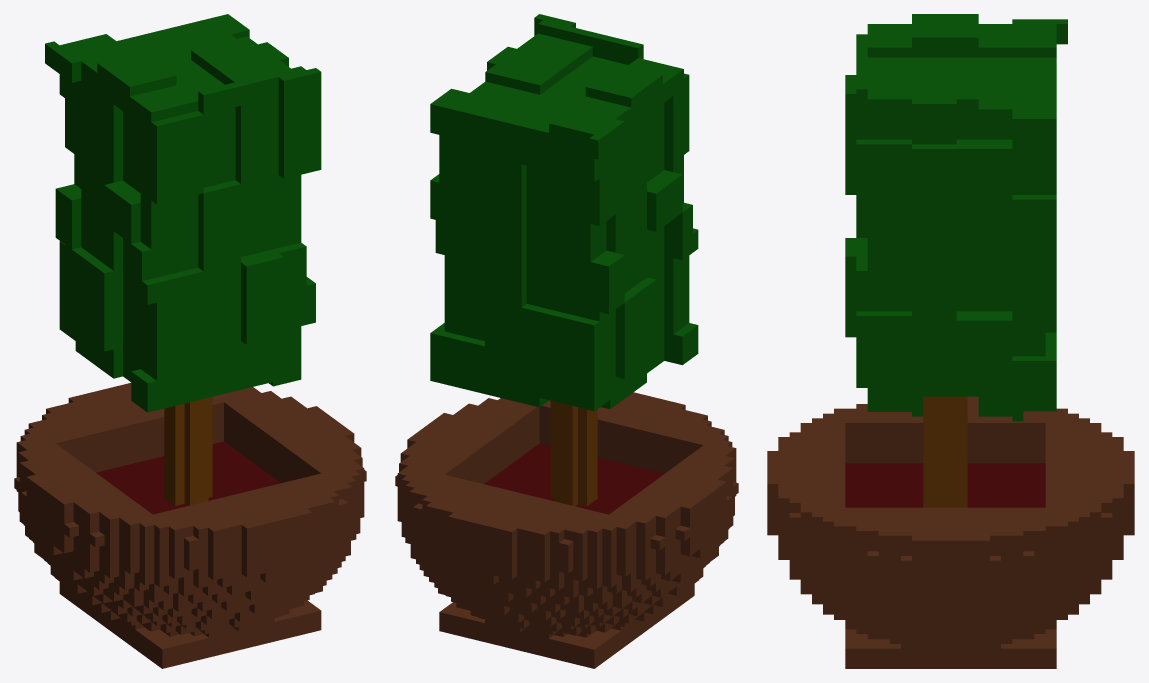
File: planta.obj
The picture shows the model from 3 angles, left to right: view 1: azimuth 30°, elevation 25°; view 2: azimuth 150°, elevation 25°; view 3: azimuth 270°, elevation 25°; orthographic projection. The views are drawn at different scales.
Size of the model in its own units: 3.1 by 5.7 by 3.3.
